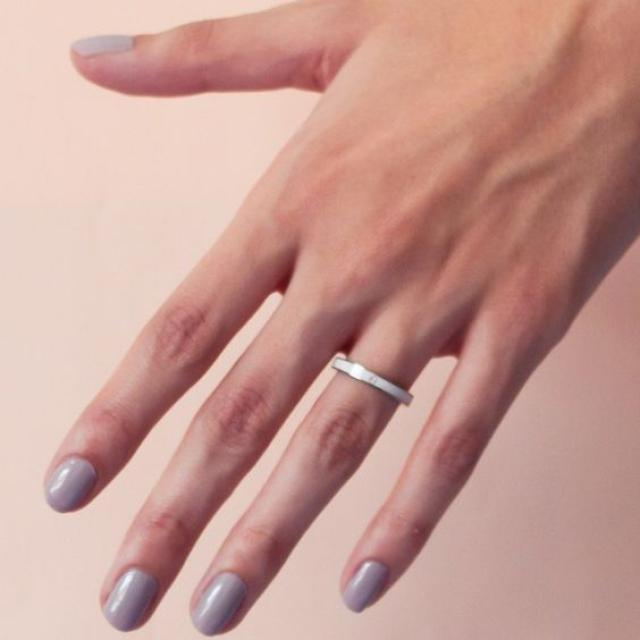Fingernail: (104, 570, 157, 630), (194, 573, 247, 633), (47, 457, 97, 513), (344, 560, 389, 615), (74, 36, 133, 58)
